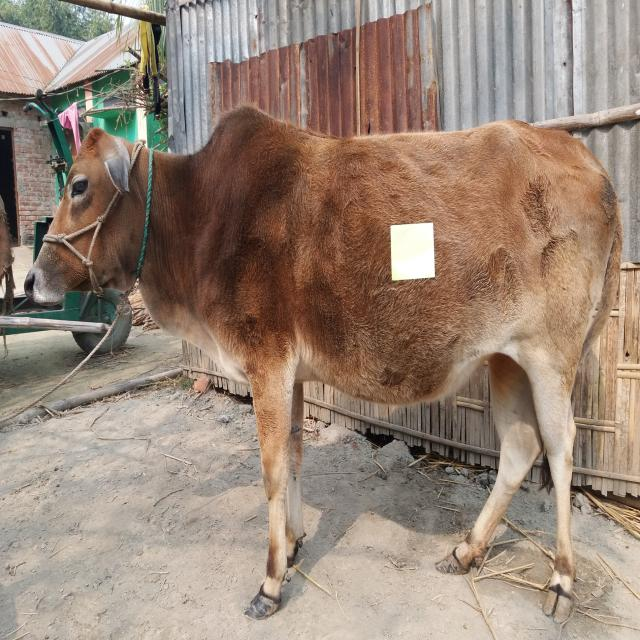badan_sapi: (218, 108, 611, 411)
sapi: (21, 108, 628, 629)
